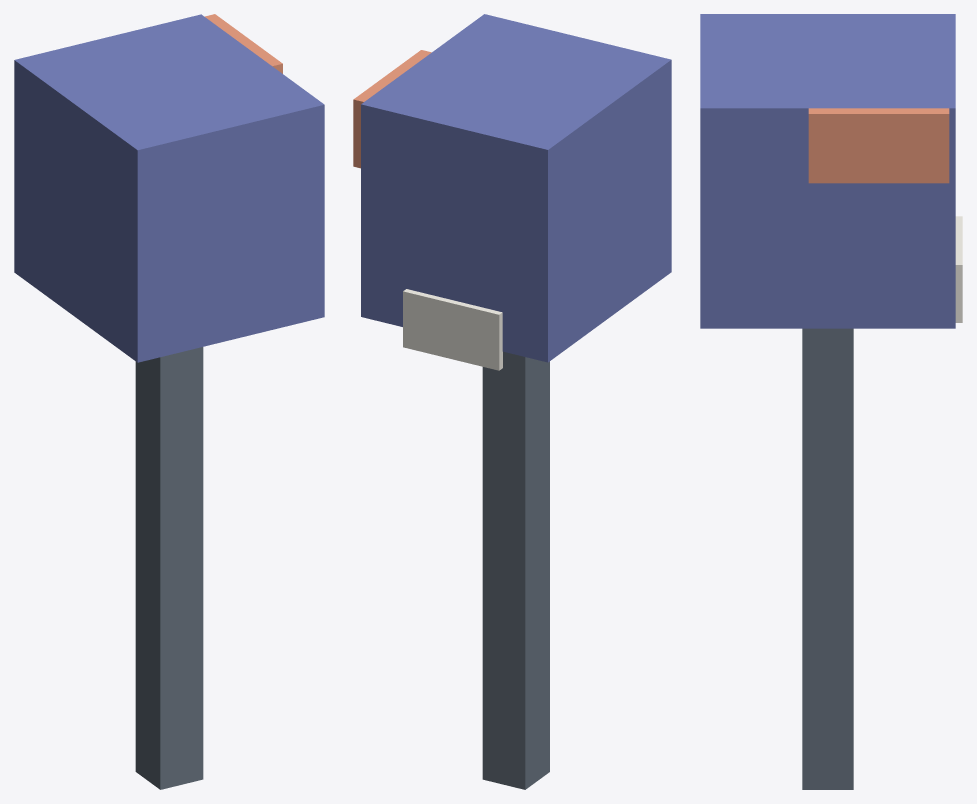
File: mailbox_01_lo1.glb
3 views of the same model, side by side, from view 1: azimuth 30°, elevation 25°; view 2: azimuth 150°, elevation 25°; view 3: azimuth 270°, elevation 25° (orthographic). The views are drawn at different scales.
Parts seen in each view (by area): view 1: mailbox_01_lo1; view 2: mailbox_01_lo1; view 3: mailbox_01_lo1.
Part boxes in pixels (<box>): mailbox_01_lo1: <box>14,14,324,789</box>; mailbox_01_lo1: <box>353,14,671,789</box>; mailbox_01_lo1: <box>700,14,962,789</box>.
Size of the model in its own units: 0.37 by 1.24 by 0.411.
